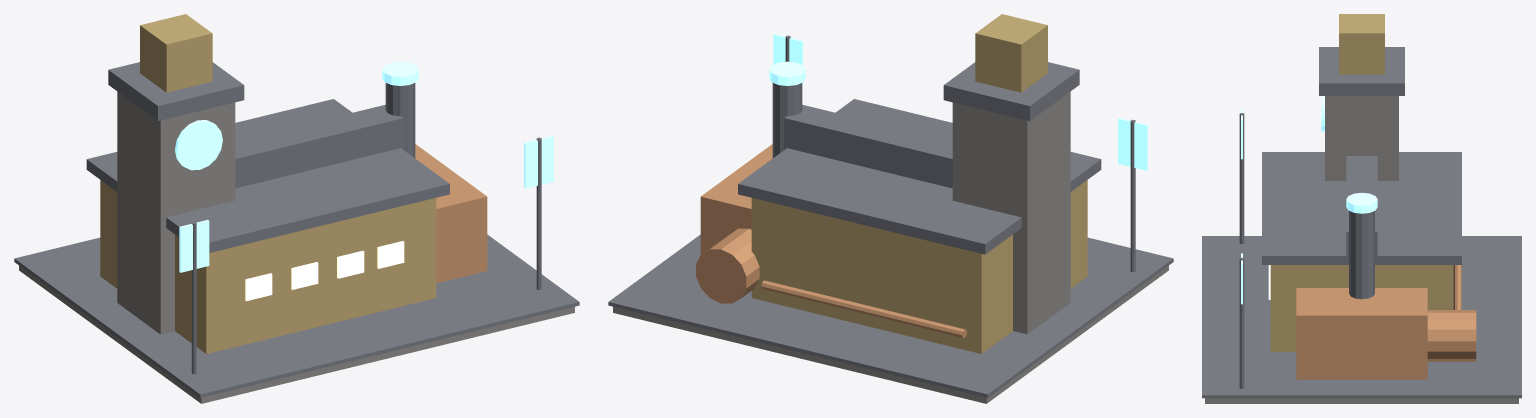
File: gearforge_civic_hall.glb
3 views of the same model, side by side, from view 1: azimuth 30°, elevation 25°; view 2: azimuth 150°, elevation 25°; view 3: azimuth 270°, elevation 25° (orthographic). The views are drawn at different scales.
Visible parts, largest first — view 1: gearforge_civic_hall_pad_trim, gearforge_civic_hall_hall, gearforge_civic_hall_tower, gearforge_civic_hall_roof, gearforge_civic_hall_ridge, gearforge_civic_hall_annex, gearforge_civic_hall_tower_top, gearforge_civic_hall_tower_cap, gearforge_civic_hall_pad, gearforge_civic_hall_dial, gearforge_civic_hall_stack, gearforge_civic_hall_banner_-60 (+8 smaller); view 2: gearforge_civic_hall_hall, gearforge_civic_hall_pad_trim, gearforge_civic_hall_tower, gearforge_civic_hall_roof, gearforge_civic_hall_ridge, gearforge_civic_hall_tower_top, gearforge_civic_hall_tower_cap, gearforge_civic_hall_pad, gearforge_civic_hall_tank, gearforge_civic_hall_annex, gearforge_civic_hall_pipe, gearforge_civic_hall_stack (+4 smaller); view 3: gearforge_civic_hall_pad_trim, gearforge_civic_hall_roof, gearforge_civic_hall_annex, gearforge_civic_hall_hall, gearforge_civic_hall_tower, gearforge_civic_hall_tower_cap, gearforge_civic_hall_tower_top, gearforge_civic_hall_tank, gearforge_civic_hall_stack, gearforge_civic_hall_pad, gearforge_civic_hall_ridge, gearforge_civic_hall_pole_60 (+3 smaller).
Part boxes in pixels (x1,y1,x2,y2): gearforge_civic_hall_pad_trim: [14, 234, 579, 397]; gearforge_civic_hall_hall: [100, 180, 436, 353]; gearforge_civic_hall_tower: [117, 91, 235, 334]; gearforge_civic_hall_roof: [86, 99, 449, 252]; gearforge_civic_hall_ridge: [235, 104, 403, 188]; gearforge_civic_hall_annex: [415, 144, 487, 283]; gearforge_civic_hall_tower_top: [140, 14, 212, 92]; gearforge_civic_hall_tower_cap: [108, 62, 244, 120]; gearforge_civic_hall_pad: [19, 265, 574, 403]; gearforge_civic_hall_dial: [175, 120, 222, 170]; gearforge_civic_hall_stack: [385, 83, 415, 157]; gearforge_civic_hall_banner_-60: [179, 220, 209, 272]; gearforge_civic_hall_hall: [751, 180, 1087, 353]; gearforge_civic_hall_pad_trim: [608, 234, 1173, 397]; gearforge_civic_hall_tower: [952, 91, 1070, 334]; gearforge_civic_hall_roof: [738, 99, 1101, 254]; gearforge_civic_hall_ridge: [784, 104, 952, 188]; gearforge_civic_hall_tower_top: [975, 14, 1047, 92]; gearforge_civic_hall_tower_cap: [943, 62, 1079, 120]; gearforge_civic_hall_pad: [613, 265, 1168, 403]; gearforge_civic_hall_tank: [696, 228, 759, 303]; gearforge_civic_hall_annex: [700, 144, 772, 254]; gearforge_civic_hall_pipe: [761, 280, 966, 337]; gearforge_civic_hall_stack: [772, 83, 802, 157]; gearforge_civic_hall_pad_trim: [1202, 236, 1521, 398]; gearforge_civic_hall_roof: [1262, 152, 1461, 264]; gearforge_civic_hall_annex: [1296, 288, 1427, 379]; gearforge_civic_hall_hall: [1270, 265, 1453, 351]; gearforge_civic_hall_tower: [1325, 96, 1398, 180]; gearforge_civic_hall_tower_cap: [1319, 47, 1404, 95]; gearforge_civic_hall_tower_top: [1339, 14, 1384, 74]; gearforge_civic_hall_tank: [1427, 310, 1476, 361]; gearforge_civic_hall_stack: [1349, 211, 1374, 299]; gearforge_civic_hall_pad: [1205, 398, 1518, 403]; gearforge_civic_hall_ridge: [1346, 156, 1377, 262]; gearforge_civic_hall_pole_60: [1239, 257, 1244, 388].
Bounding box in the file's own units: 13.2 × 9.7 × 11.2.
